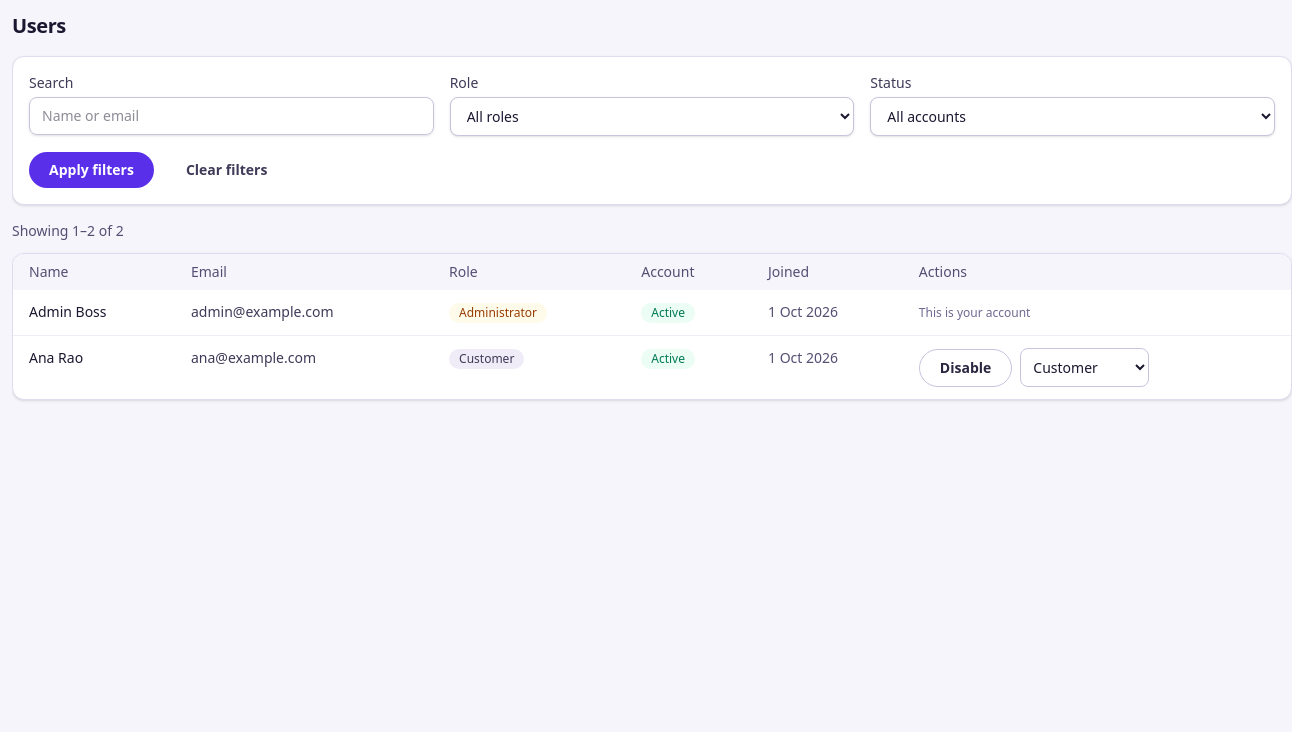
Test: AdminUsersPage › shows the server's reason next to the row when a change is refused
Select "Organizer" in the dropdown named "Role for Ana Rao" at [1085, 368], box [1020,348,1149,387]
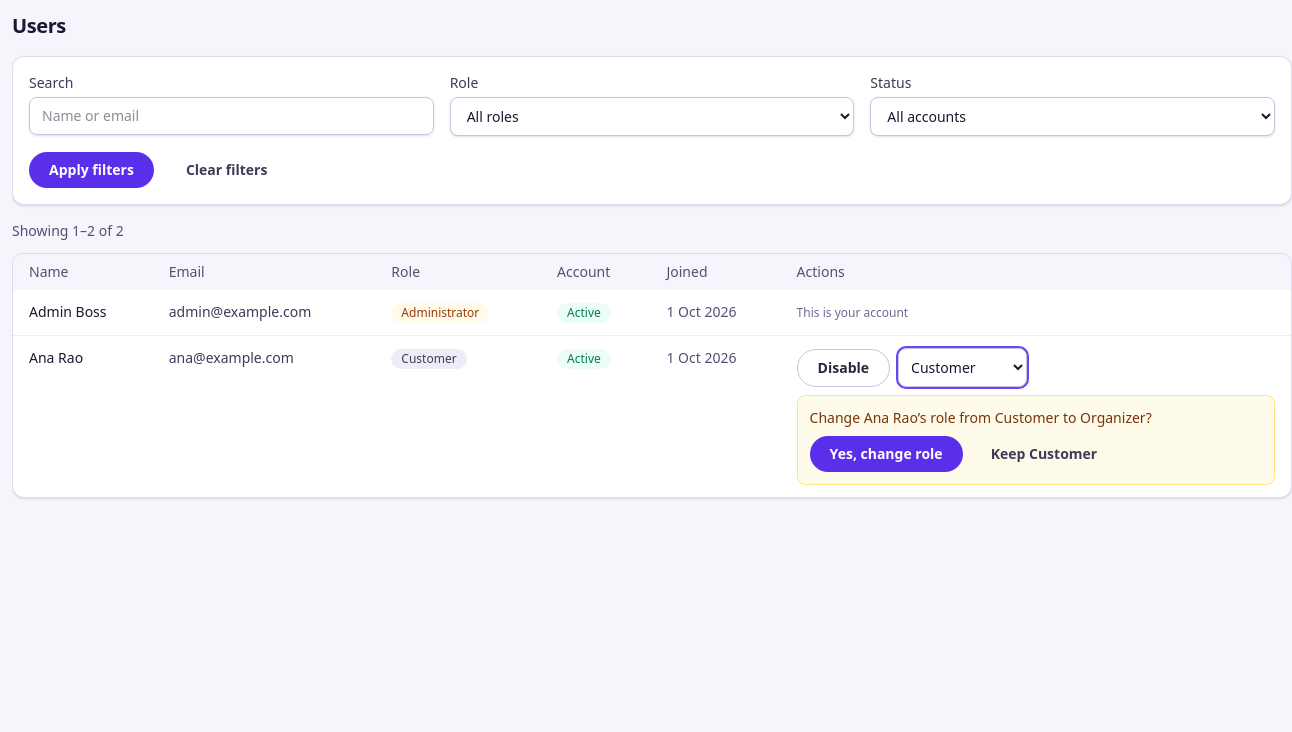
Click the button "Yes, change role" at [886, 454], box [810,436,963,472]
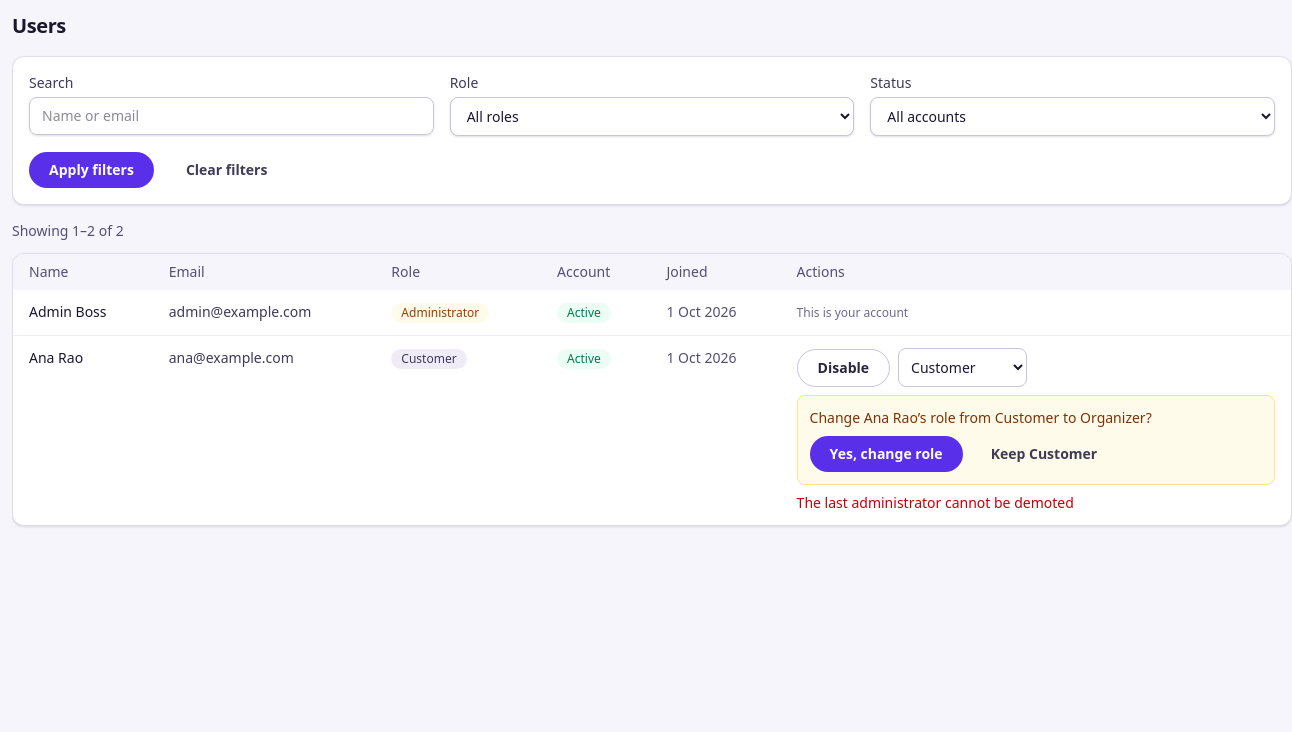
Expected: the message reads "The last administrator cannot be demoted", [797,493,1074,512]
